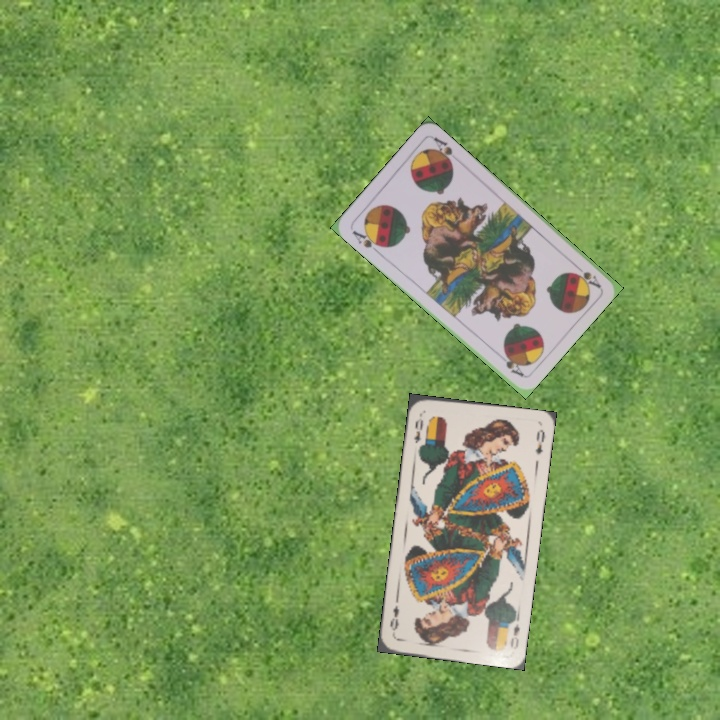EO: (505, 612, 523, 652), (410, 410, 426, 446)
SA: (348, 226, 386, 256), (570, 259, 603, 291)
